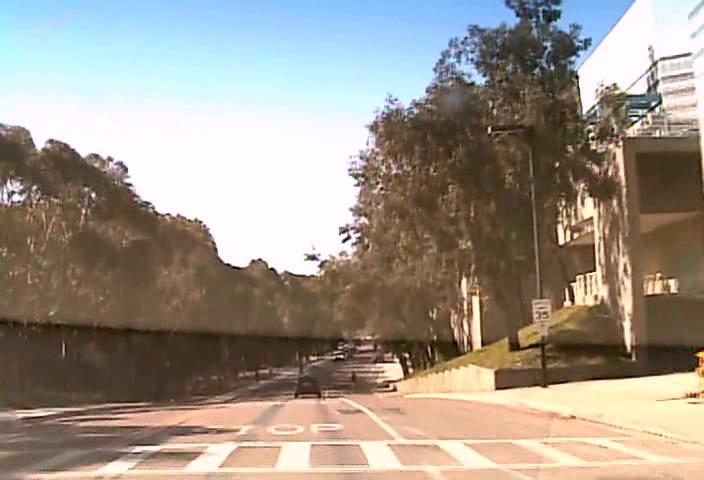speedLimit35: (531, 298, 552, 322)
